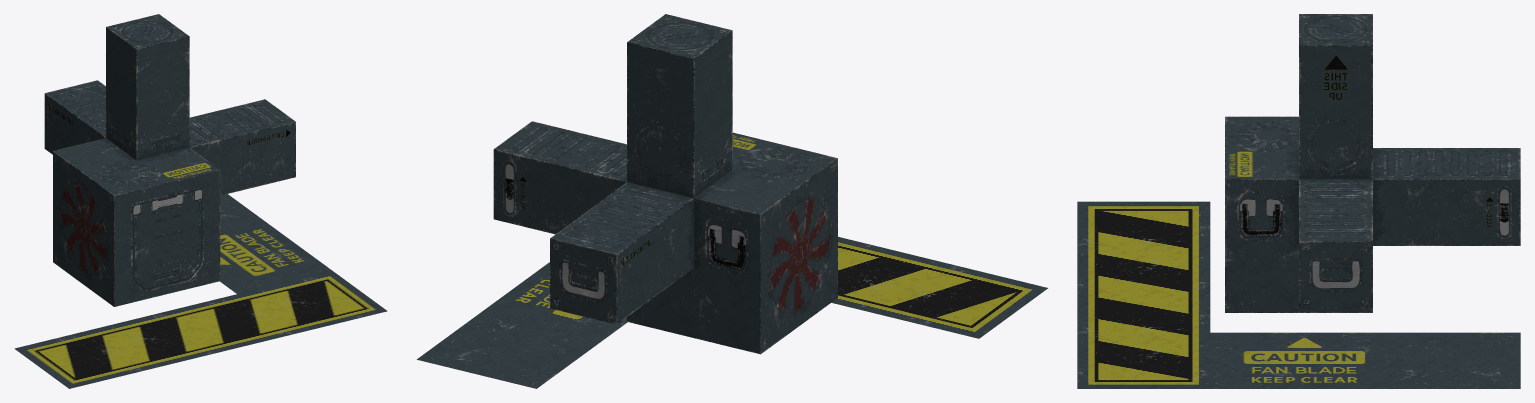
File: Node_NegativeScale_07.gltf
3 renders of one model, left to right at view 1: azimuth 30°, elevation 25°; view 2: azimuth 150°, elevation 25°; view 3: azimuth 270°, elevation 25°, orthographic. The views are drawn at different scales.
Parts seen in each view (by area): view 1: Node1, Node0; view 2: Node1, Node0; view 3: Node1, Node0.
Boxes of the visible parts, bbox=[...] form: Node1: bbox=[44, 14, 295, 306]; Node0: bbox=[14, 194, 387, 388]; Node1: bbox=[493, 14, 837, 354]; Node0: bbox=[417, 236, 1047, 388]; Node1: bbox=[1225, 14, 1520, 312]; Node0: bbox=[1077, 201, 1520, 388].
Bounding box in the file's own units: 15 × 10.5 × 15.
Materials: 2 (2 with a texture image).
